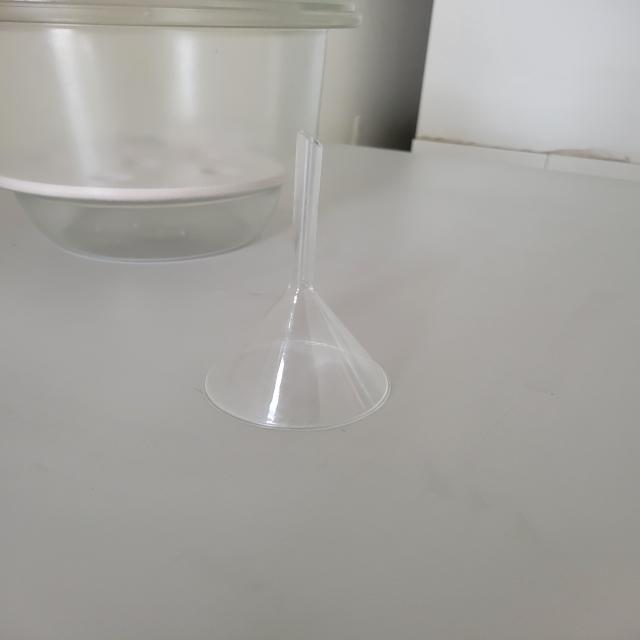Funnel: (178, 100, 424, 459)
